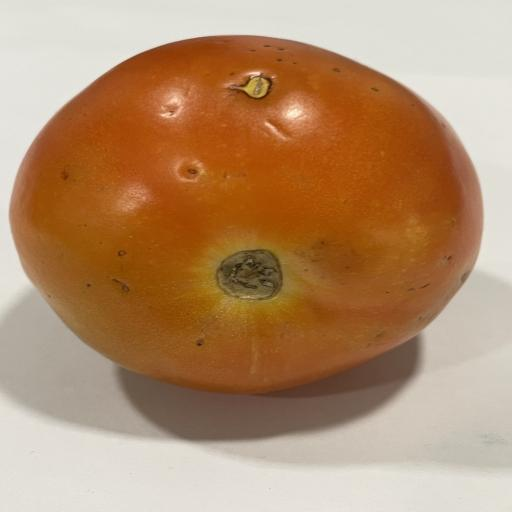unripe: (10, 36, 482, 393)
